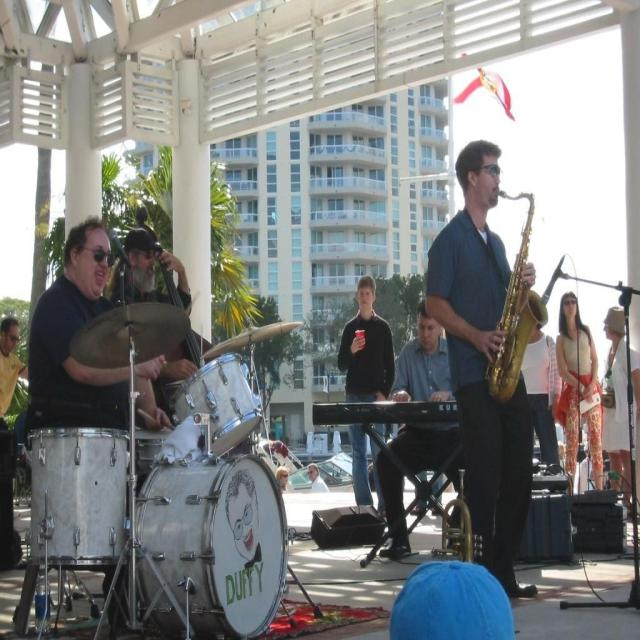drums: (17, 300, 305, 640)
saxophone: (489, 184, 549, 408)
